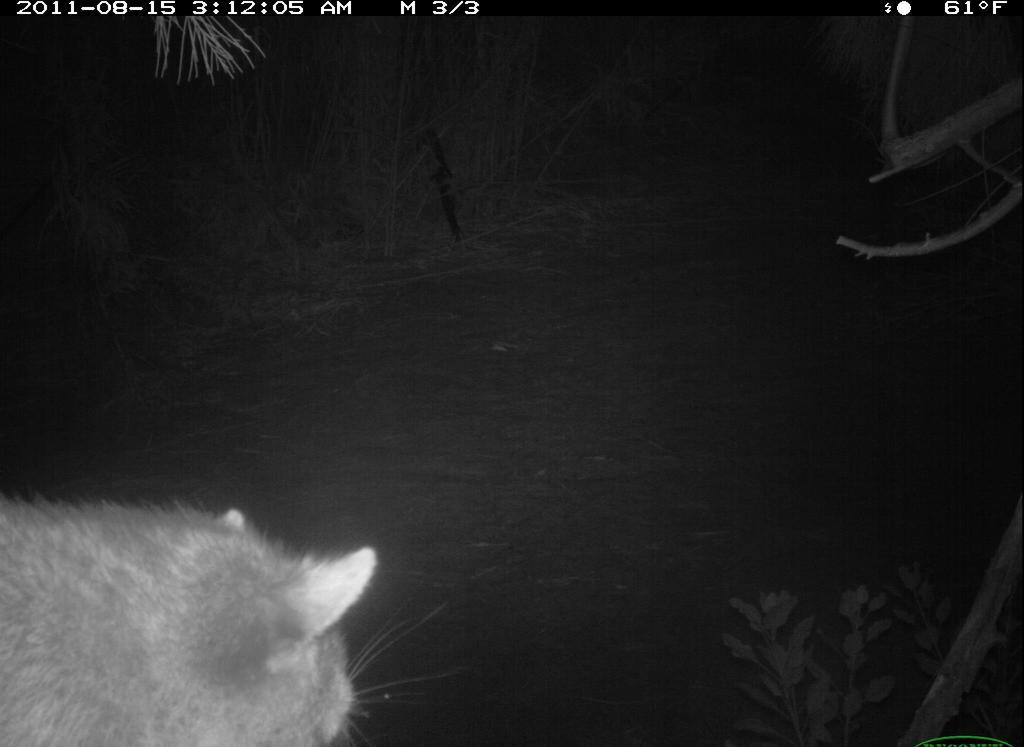raccoon: (3, 489, 465, 747)
